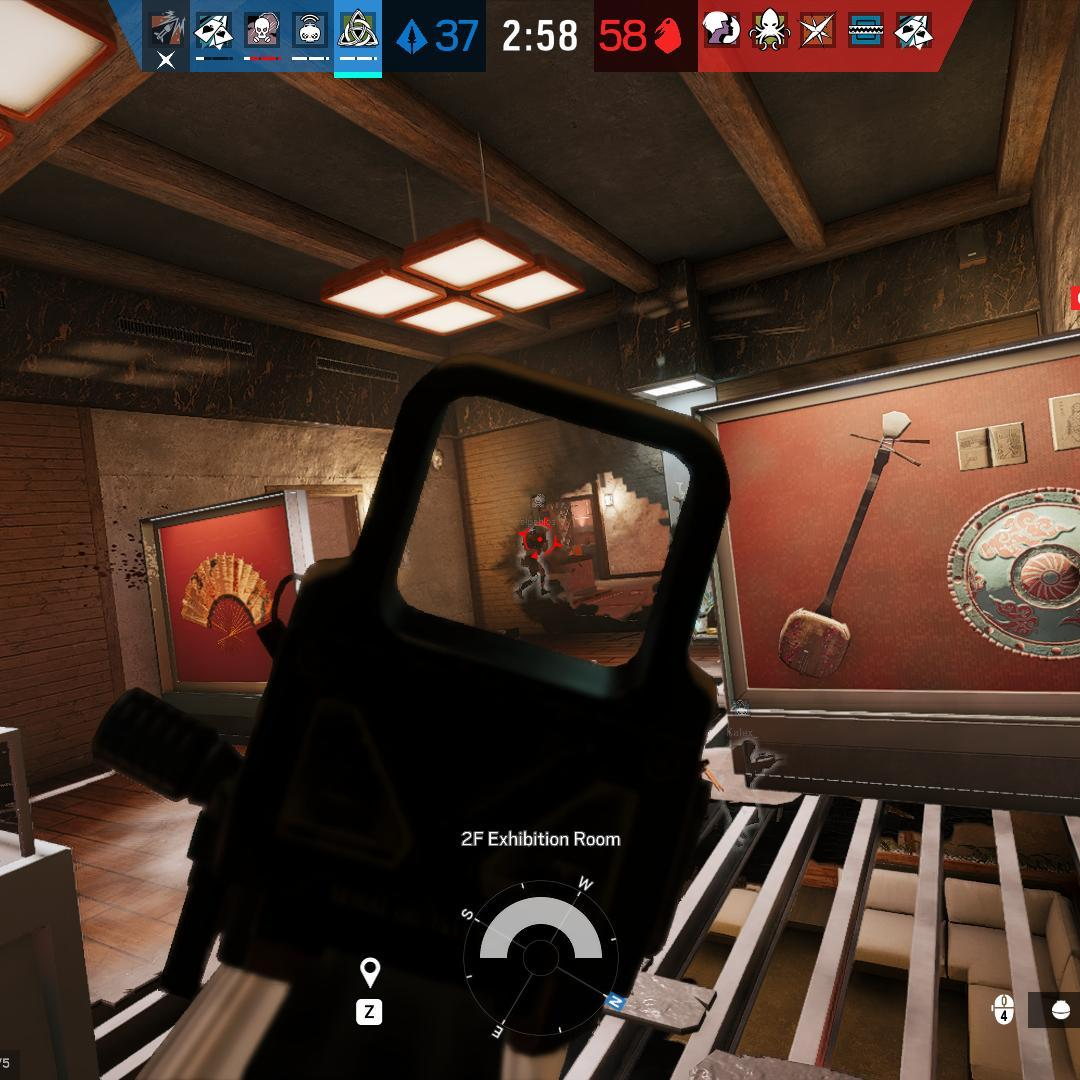Friend_label: (518, 493, 559, 527)
